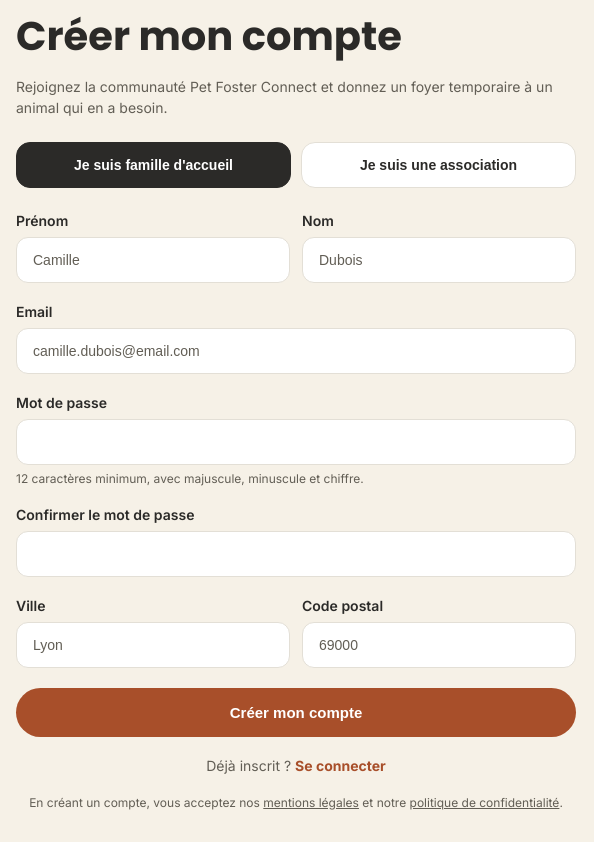
Scenario: Register › affiche les champs association quand on choisit 'Je suis une association'
Click the button "Je suis une association" at [438, 165], box [301,142,576,188]
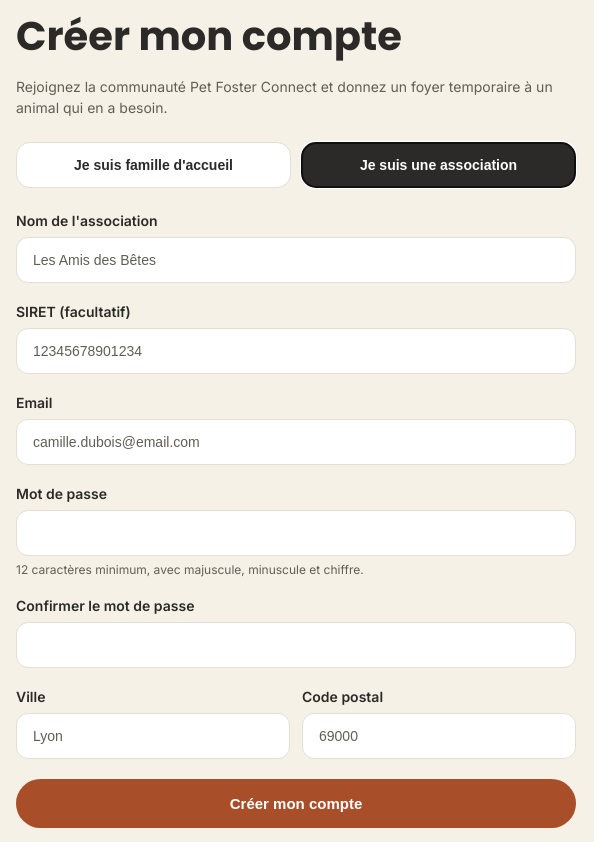
expect the field labelled "Nom de l'association" is shown: met, box [16,237,576,283]
expect the label labelled "Prénom" is gone: met
